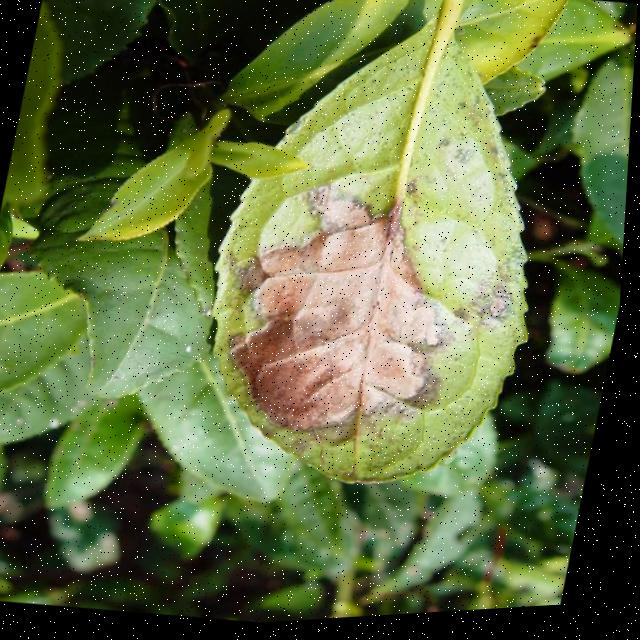Tea cloud leaf blight: (220, 185, 518, 487)
